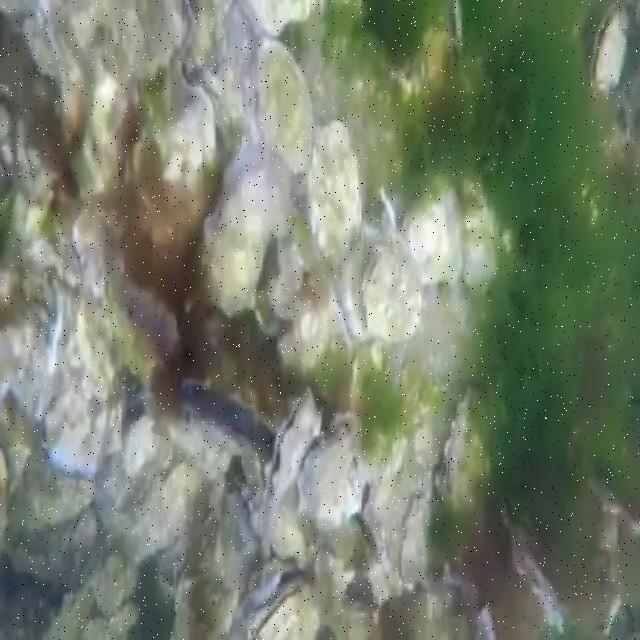Oyster-Closed: (260, 393, 322, 557), (253, 42, 315, 171), (308, 120, 362, 263), (501, 507, 562, 633), (296, 433, 368, 534), (438, 390, 489, 506), (364, 248, 422, 340), (74, 204, 122, 306), (172, 565, 235, 638), (133, 0, 182, 79), (270, 486, 317, 568), (235, 0, 317, 38), (590, 6, 627, 85), (90, 66, 127, 140), (164, 464, 199, 535), (95, 548, 127, 616), (463, 231, 498, 291), (81, 602, 137, 638), (125, 413, 155, 477), (366, 559, 399, 603), (447, 0, 464, 82), (248, 563, 280, 602)
Oyster-Open: (144, 3, 218, 197), (202, 142, 272, 313), (178, 380, 283, 462), (114, 285, 179, 386), (44, 382, 109, 475), (405, 183, 462, 285), (397, 464, 443, 587), (246, 576, 321, 638), (351, 513, 382, 565), (330, 413, 360, 438), (623, 0, 638, 39)
